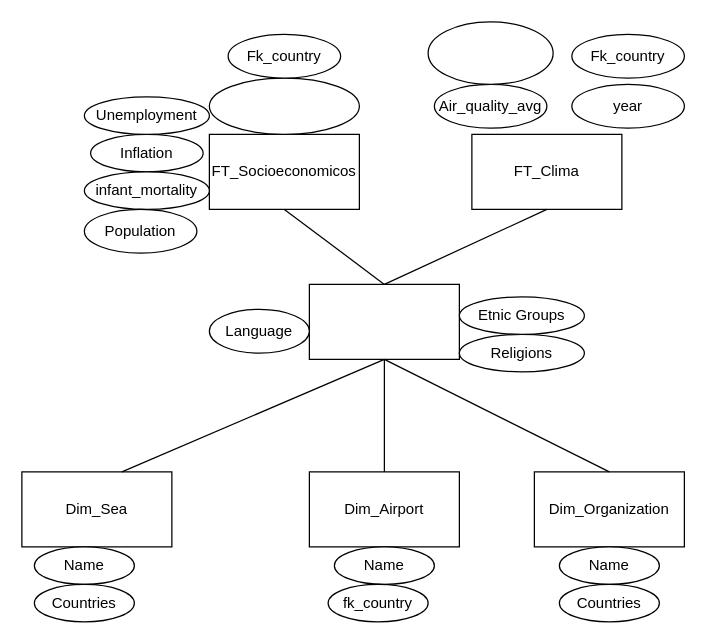
The diagram is 706 pixels wide and 644 high, and some of its shapes have lost their labels. Each missing label, with the centre of its shape:
"Dim_Country" goes at point 383,321.
"Precipitation_avg" goes at point 490,52.
"Todos os Atributos do CSV hapiness" goes at point 283,105.
